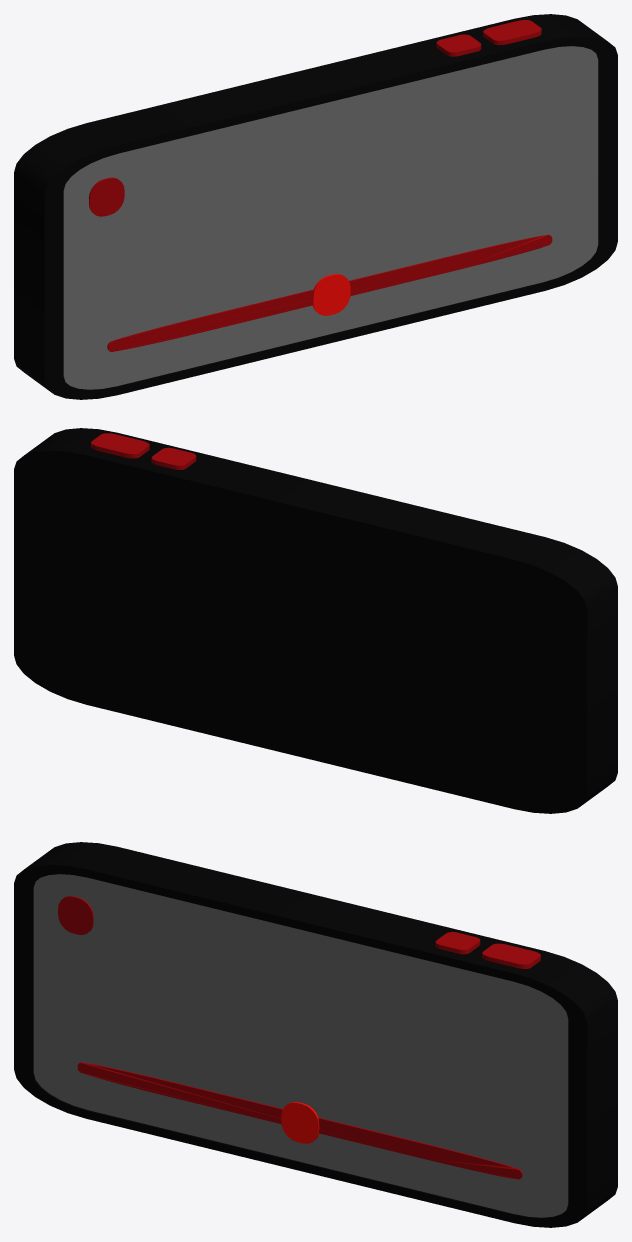
The model's file is Timer.fbx.
3 renders of one model, top to bottom at view 1: azimuth 30°, elevation 25°; view 2: azimuth 150°, elevation 25°; view 3: azimuth 330°, elevation 25°, orthographic.
Visible parts, largest first — view 1: Cube.003, Cube, Cube.004, Cube.002, Cube.005, Cube.022; view 2: Cube, Cube.002; view 3: Cube.003, Cube, Cube.004, Cube.002, Cube.005, Cube.022.
Boxes of the visible parts, x1,y1,x2,y2 form: Cube.003: [63, 46, 598, 389]; Cube: [14, 14, 617, 399]; Cube.004: [107, 234, 552, 351]; Cube.002: [436, 20, 541, 56]; Cube.005: [312, 274, 350, 315]; Cube.022: [89, 177, 124, 216]; Cube: [14, 428, 617, 813]; Cube.002: [91, 433, 196, 469]; Cube.003: [33, 874, 568, 1217]; Cube: [14, 842, 617, 1227]; Cube.004: [77, 1062, 522, 1179]; Cube.002: [435, 932, 540, 968]; Cube.005: [281, 1102, 319, 1143]; Cube.022: [58, 896, 93, 934].
Size of the model in its own units: 96.12 by 40.68 by 9.12.
